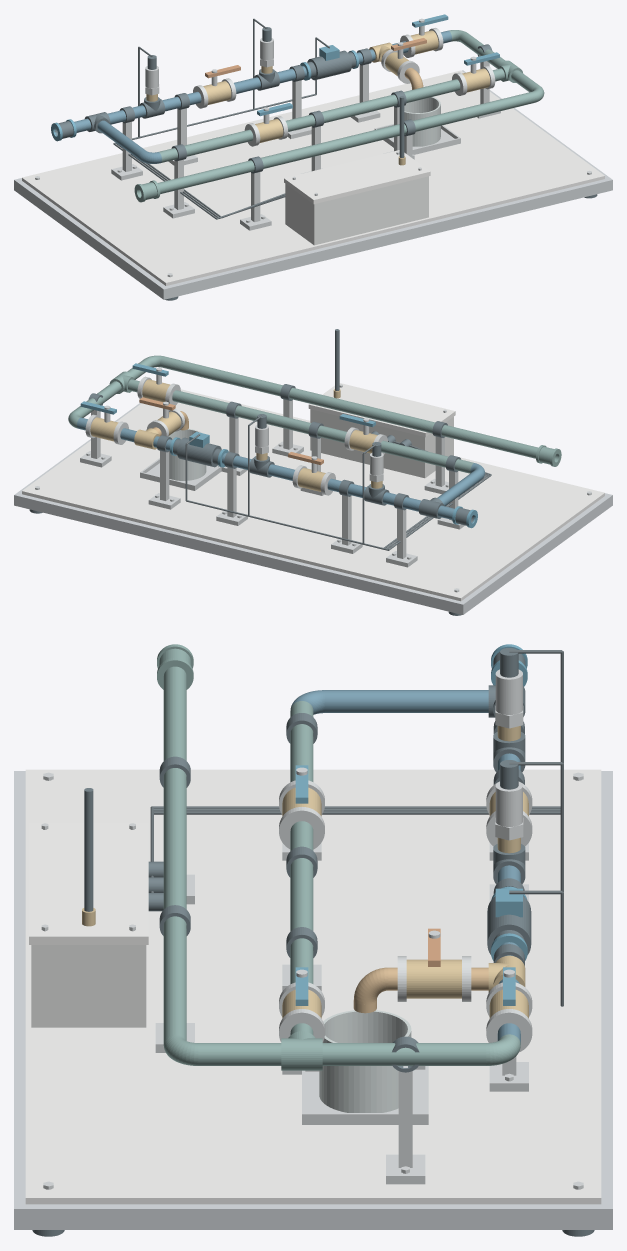
The model's file is bench_layout.glb.
3 views of the same model, one above another, from view 1: azimuth 30°, elevation 25°; view 2: azimuth 150°, elevation 25°; view 3: azimuth 270°, elevation 25° (orthographic). The views are drawn at different scales.
Parts seen in each view (by area): view 1: removable_deck, rail_front, electronics_shell, return_out, electronics_lid, rail_left, B_to_Bload, open_measuring_vessel, B_to_switch, Q_meter_envelope, removable_catch_tray, B_vertical (+6 smaller); view 2: removable_deck, rail_rear, return_out, electronics_shell, electronics_lid, rail_left, B_to_Bload, B_to_switch, open_measuring_vessel, removable_catch_tray, Q_meter_envelope, B_vertical (+9 smaller); view 3: removable_deck, rail_right, electronics_lid, electronics_shell, return_out, open_measuring_vessel, rail_front, rail_rear, B_vertical, return_upper, B_to_Bload, removable_catch_tray (+21 smaller).
Part boxes in pixels (left/top/right/bottom): removable_deck: left=22, top=70, right=604, bottom=285; rail_front: left=158, top=176, right=612, bottom=299; electronics_shell: left=285, top=176, right=428, bottom=245; return_out: left=157, top=91, right=535, bottom=193; electronics_lid: left=284, top=150, right=430, bottom=203; rail_left: left=19, top=183, right=162, bottom=295; B_to_Bload: left=285, top=79, right=460, bottom=131; open_measuring_vessel: left=404, top=97, right=440, bottom=146; B_to_switch: left=159, top=129, right=253, bottom=162; Q_meter_envelope: left=307, top=50, right=351, bottom=80; removable_catch_tray: left=374, top=124, right=460, bottom=154; B_vertical: left=97, top=120, right=145, bottom=159; removable_deck: left=22, top=389, right=604, bottom=601; rail_rear: left=14, top=491, right=468, bottom=614; return_out: left=160, top=356, right=538, bottom=458; electronics_shell: left=310, top=409, right=453, bottom=478; electronics_lid: left=308, top=383, right=455, bottom=437; rail_left: left=464, top=498, right=607, bottom=610; B_to_Bload: left=172, top=390, right=346, bottom=442; B_to_switch: left=381, top=440, right=473, bottom=473; open_measuring_vessel: left=168, top=429, right=206, bottom=480; removable_catch_tray: left=140, top=458, right=221, bottom=490; Q_meter_envelope: left=177, top=437, right=221, bottom=467; B_vertical: left=437, top=470, right=482, bottom=505; removable_deck: left=25, top=769, right=601, bottom=1204; rail_right: left=37, top=1204, right=589, bottom=1229; electronics_lid: left=29, top=822, right=148, bottom=944; electronics_shell: left=31, top=945, right=146, bottom=1027; return_out: left=163, top=666, right=186, bottom=1043; open_measuring_vessel: left=319, top=1010, right=411, bottom=1112; rail_front: left=14, top=771, right=36, bottom=1229; rail_rear: left=590, top=771, right=612, bottom=1229; B_vertical: left=325, top=690, right=488, bottom=712; return_upper: left=322, top=1043, right=486, bottom=1065; B_to_Bload: left=290, top=821, right=313, bottom=984; removable_catch_tray: left=302, top=1066, right=428, bottom=1124.
Bounding box in the file's own units: 0.9 × 0.256 × 0.52.
